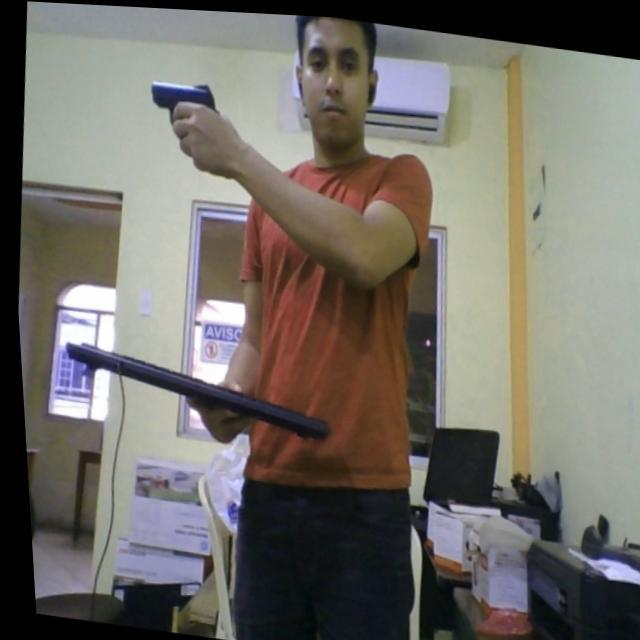weapon: (143, 72, 225, 153)
